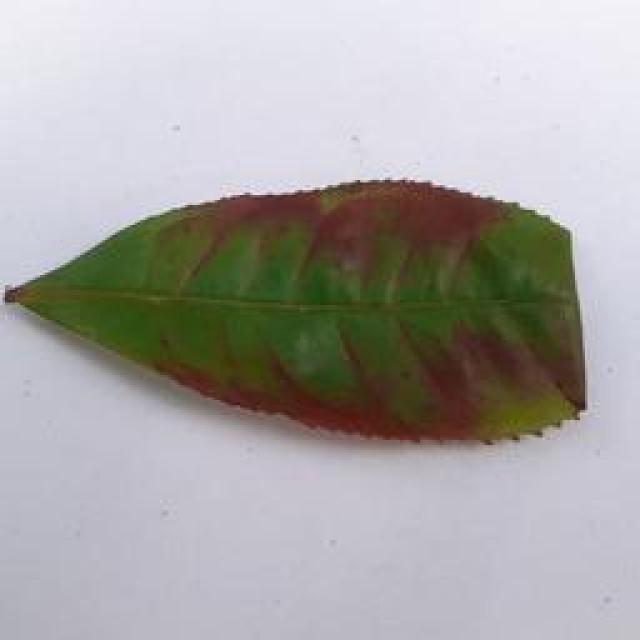Red Leaf Spot: (6, 164, 608, 455)
